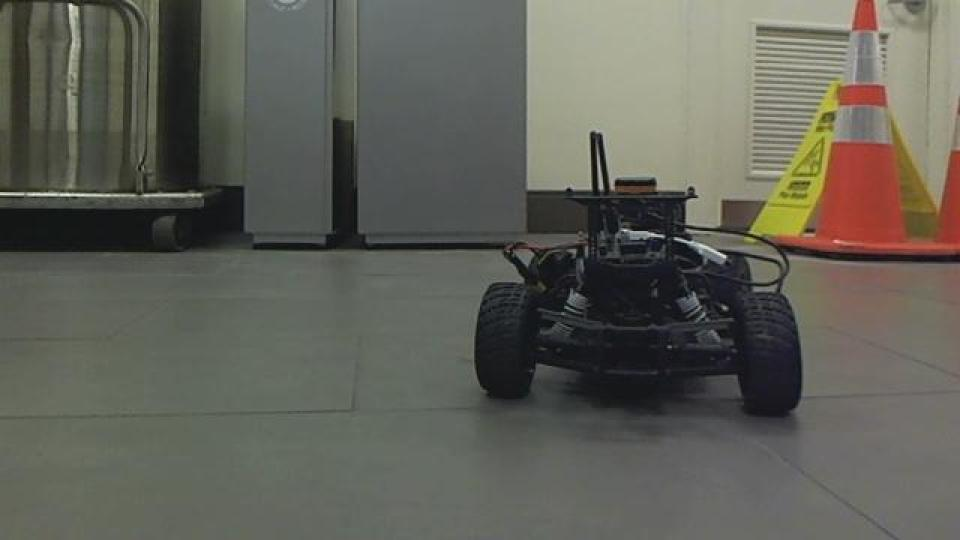car: (470, 129, 806, 419)
